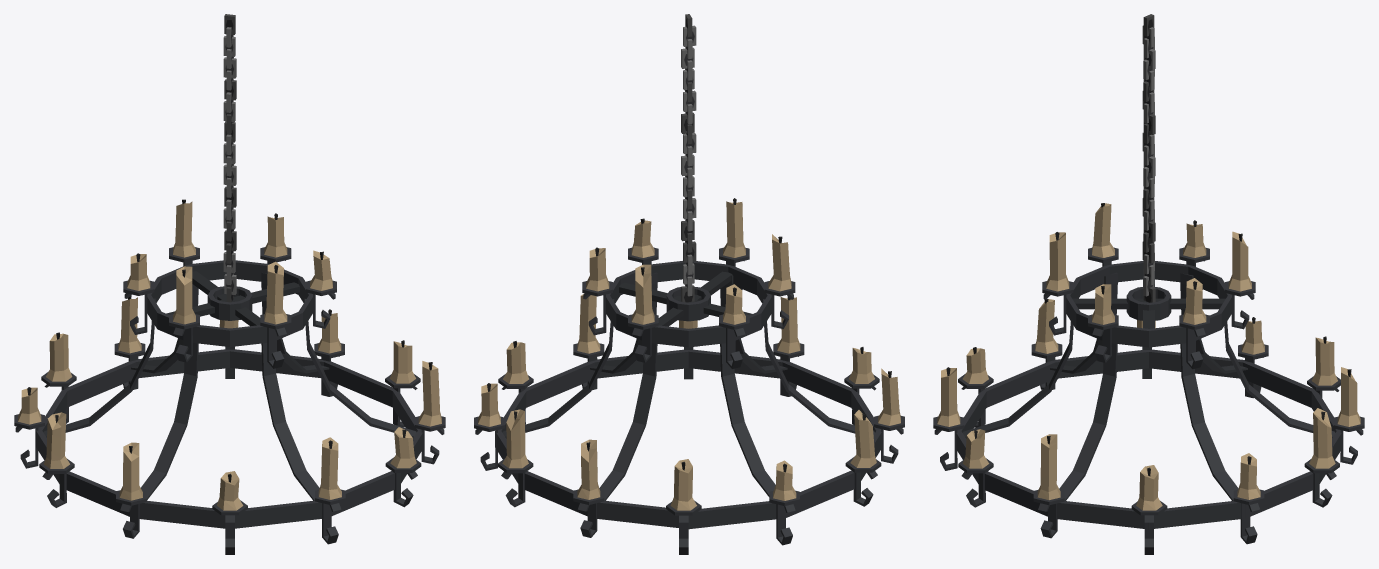
Rendered from SM_Prop_Candle_Chandelier_02.fbx.
The picture shows the model from 3 angles, left to right: view 1: azimuth 30°, elevation 25°; view 2: azimuth 150°, elevation 25°; view 3: azimuth 270°, elevation 25°; orthographic projection.
Parts seen in each view (by area): view 1: SM_Prop_Candle_Chandelier_02; view 2: SM_Prop_Candle_Chandelier_02; view 3: SM_Prop_Candle_Chandelier_02.
Part boxes in pixels (<box>): SM_Prop_Candle_Chandelier_02: <box>14,14,445,554</box>; SM_Prop_Candle_Chandelier_02: <box>474,14,904,554</box>; SM_Prop_Candle_Chandelier_02: <box>933,14,1364,554</box>.
Size of the model in its own units: 2.37 by 2.75 by 2.37.
